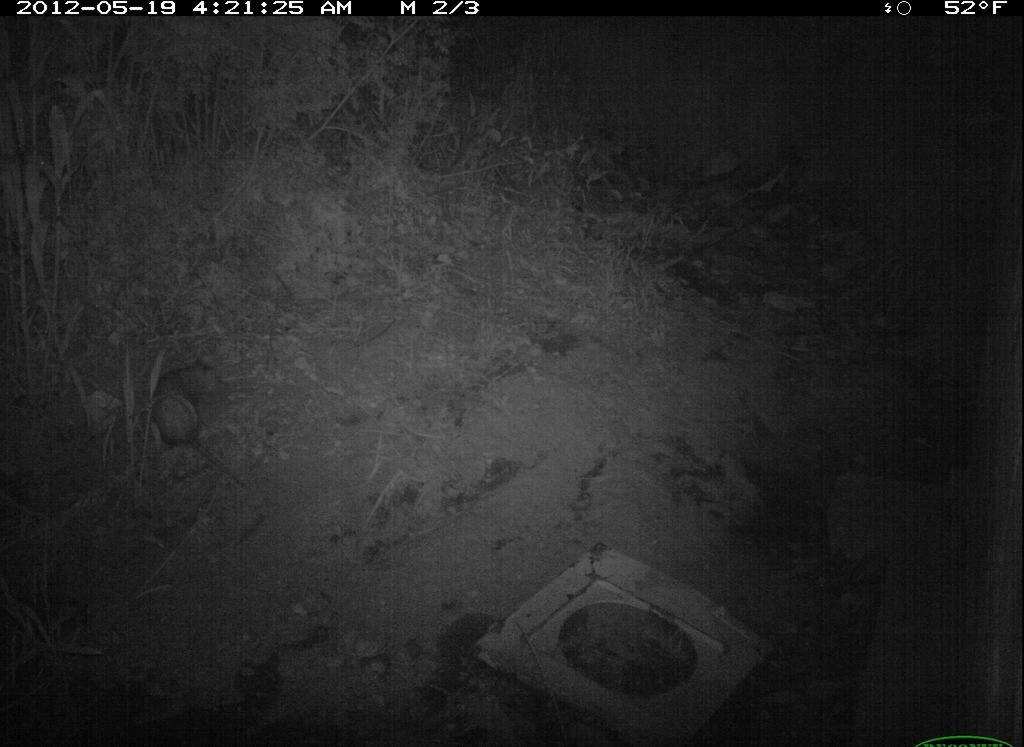opossum: (147, 353, 247, 495)
